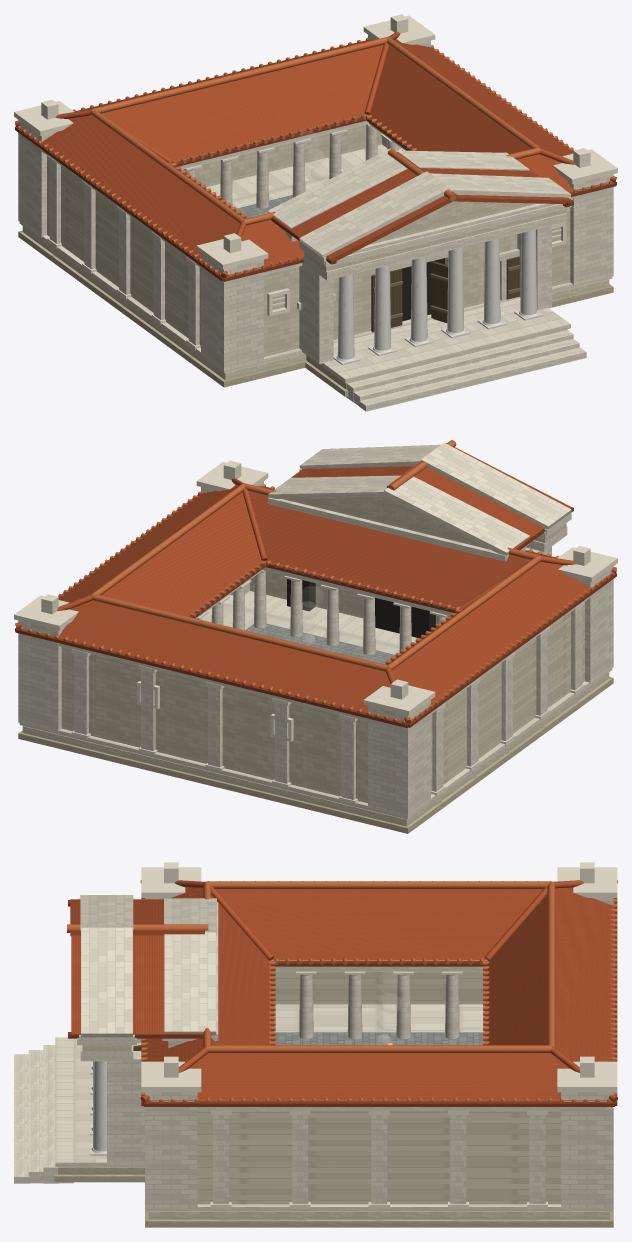
File: townhall-classical-built.glb
3 renders of one model, top to bottom at view 1: azimuth 30°, elevation 25°; view 2: azimuth 150°, elevation 25°; view 3: azimuth 270°, elevation 25°, orthographic. The views are drawn at different scales.
Bounding box in the file's own units: 35.59 × 14.99 × 41.24.
43 materials, 29 textured.
